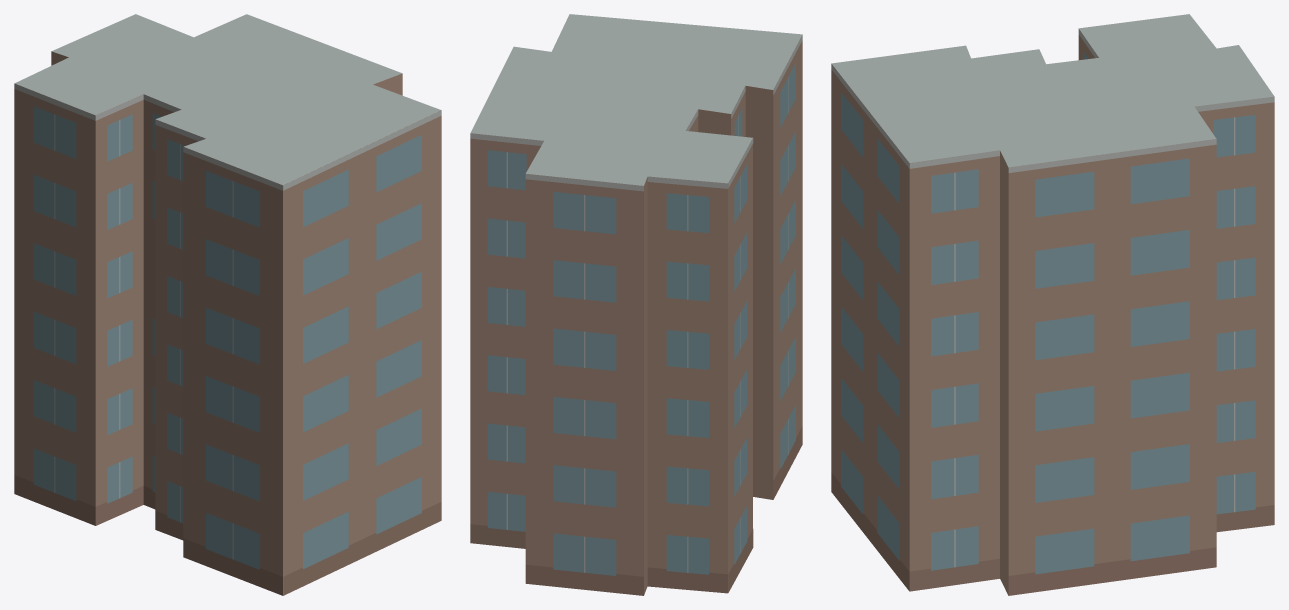
File: survey-upis-32570258.glb
3 renders of one model, left to right at view 1: azimuth 30°, elevation 25°; view 2: azimuth 150°, elevation 25°; view 3: azimuth 270°, elevation 25°, orthographic. The views are drawn at different scales.
Parts seen in each view (by area): view 1: survey-upis-32570258.tmp; view 2: survey-upis-32570258.tmp; view 3: survey-upis-32570258.tmp.
Boxes of the visible parts, x1=… form: survey-upis-32570258.tmp: x1=14, y1=14, x2=441, y2=595; survey-upis-32570258.tmp: x1=470, y1=14, x2=802, y2=595; survey-upis-32570258.tmp: x1=831, y1=14, x2=1274, y2=595.
Bounding box in the file's own units: 14.07 × 18.3 × 17.17.
